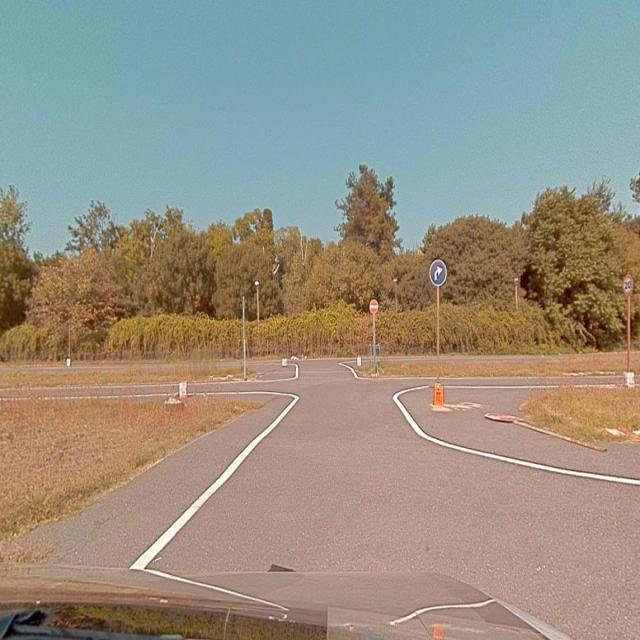20: (624, 275, 633, 293)
girisyok: (368, 300, 378, 314)
sag: (429, 260, 446, 286)
